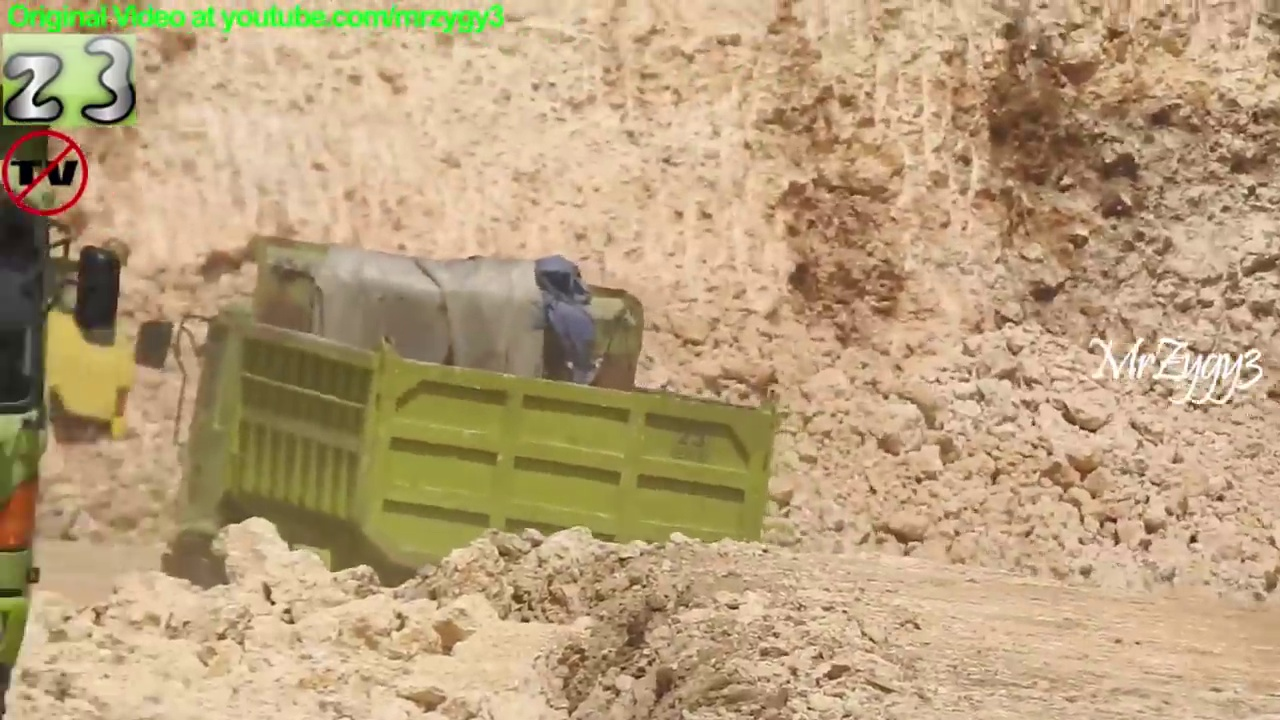truck: (134, 220, 786, 664), (1, 40, 136, 717)
